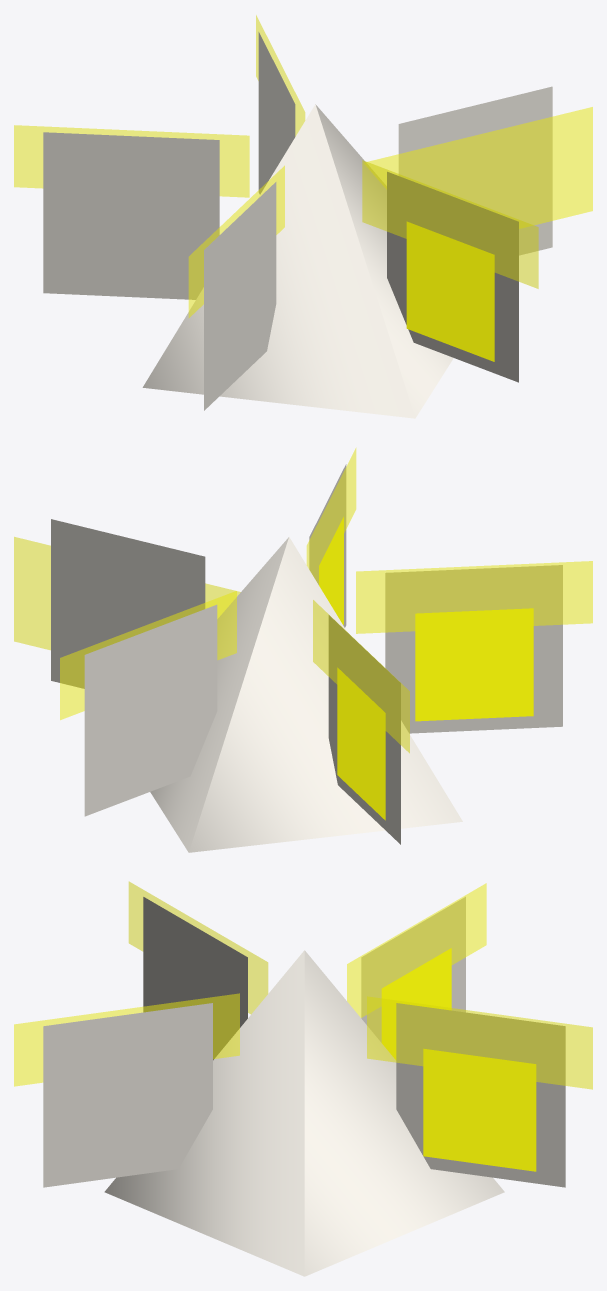
File: square-pyramid.glb
The picture shows the model from 3 angles, top to bottom: view 1: azimuth 30°, elevation 25°; view 2: azimuth 150°, elevation 25°; view 3: azimuth 270°, elevation 25°; orthographic projection.
Parts seen in each view (by area): view 1: TriQR_Body, TriQR_Label (×5), TriQR_FaceSurface_face-4, TriQR_FaceSurface_name-face, TriQR_FaceSurface_face-3, TriQR_FaceSurface_face-2, TriQR_QR_face-2, TriQR_FaceSurface_face-5; view 2: TriQR_Body, TriQR_Label (×5), TriQR_FaceSurface_face-5, TriQR_FaceSurface_name-face, TriQR_FaceSurface_face-3, TriQR_QR_face-3, TriQR_FaceSurface_face-4, TriQR_QR_face-4, TriQR_FaceSurface_face-2, TriQR_QR_face-2; view 3: TriQR_Body, TriQR_Label (×4), TriQR_FaceSurface_face-2, TriQR_FaceSurface_face-5, TriQR_QR_face-5, TriQR_FaceSurface_face-3, TriQR_FaceSurface_face-4, TriQR_QR_face-4.
Boxes of the visible parts, x1,y1,x2,y2 form: TriQR_Body: (142, 104, 453, 418); TriQR_Label (×5): (14, 15, 592, 317); TriQR_FaceSurface_face-4: (43, 132, 219, 299); TriQR_FaceSurface_name-face: (398, 86, 552, 255); TriQR_FaceSurface_face-3: (204, 182, 276, 410); TriQR_FaceSurface_face-2: (387, 172, 518, 382); TriQR_QR_face-2: (406, 221, 494, 361); TriQR_FaceSurface_face-5: (258, 32, 295, 194); TriQR_Body: (150, 537, 462, 852); TriQR_Label (×5): (14, 448, 592, 753); TriQR_FaceSurface_face-5: (84, 604, 217, 816); TriQR_FaceSurface_name-face: (51, 519, 205, 688); TriQR_FaceSurface_face-3: (385, 565, 562, 733); TriQR_QR_face-3: (415, 608, 533, 721); TriQR_FaceSurface_face-4: (328, 615, 400, 844); TriQR_QR_face-4: (337, 667, 385, 820); TriQR_FaceSurface_face-2: (309, 464, 346, 627); TriQR_QR_face-2: (319, 517, 343, 624); TriQR_Body: (104, 950, 504, 1276); TriQR_Label (×4): (14, 881, 592, 1089); TriQR_FaceSurface_face-2: (43, 1003, 212, 1187); TriQR_FaceSurface_face-5: (396, 1003, 565, 1187); TriQR_QR_face-5: (423, 1048, 536, 1171); TriQR_FaceSurface_face-3: (143, 897, 247, 1060); TriQR_FaceSurface_face-4: (361, 897, 465, 1042); TriQR_QR_face-4: (381, 948, 451, 1059).
Bounding box in the file's own units: 3.82 × 1.8 × 3.9.
15 materials, 9 textured.
